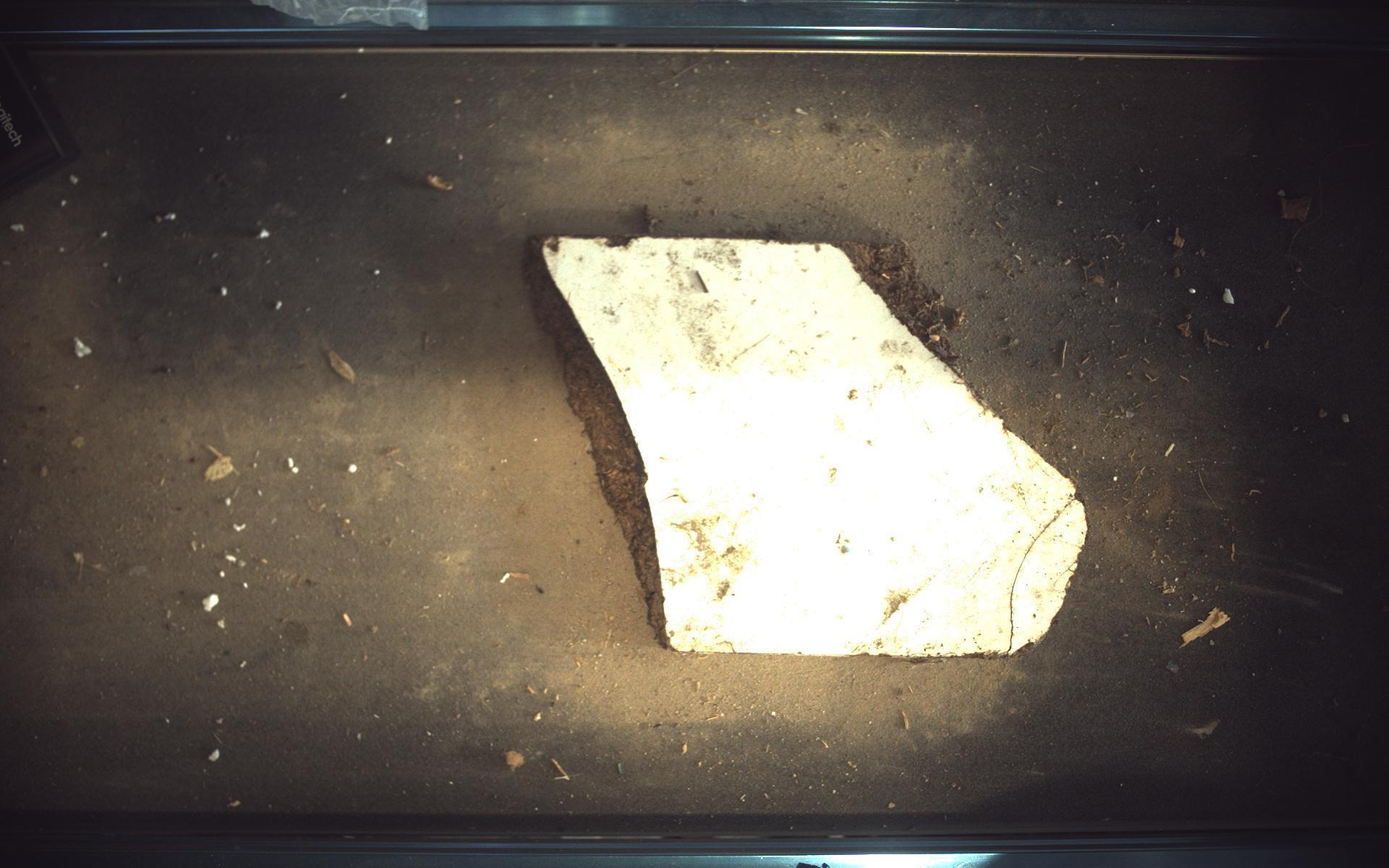wood: (528, 236, 1089, 659)
